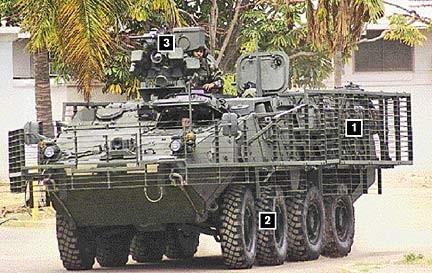MIL_IFV: (19, 26, 415, 271)
